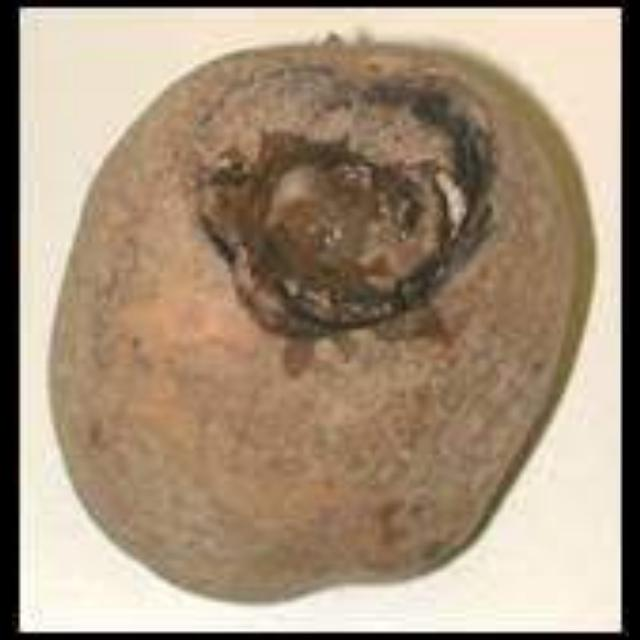Damaged potato: (70, 29, 604, 604)
